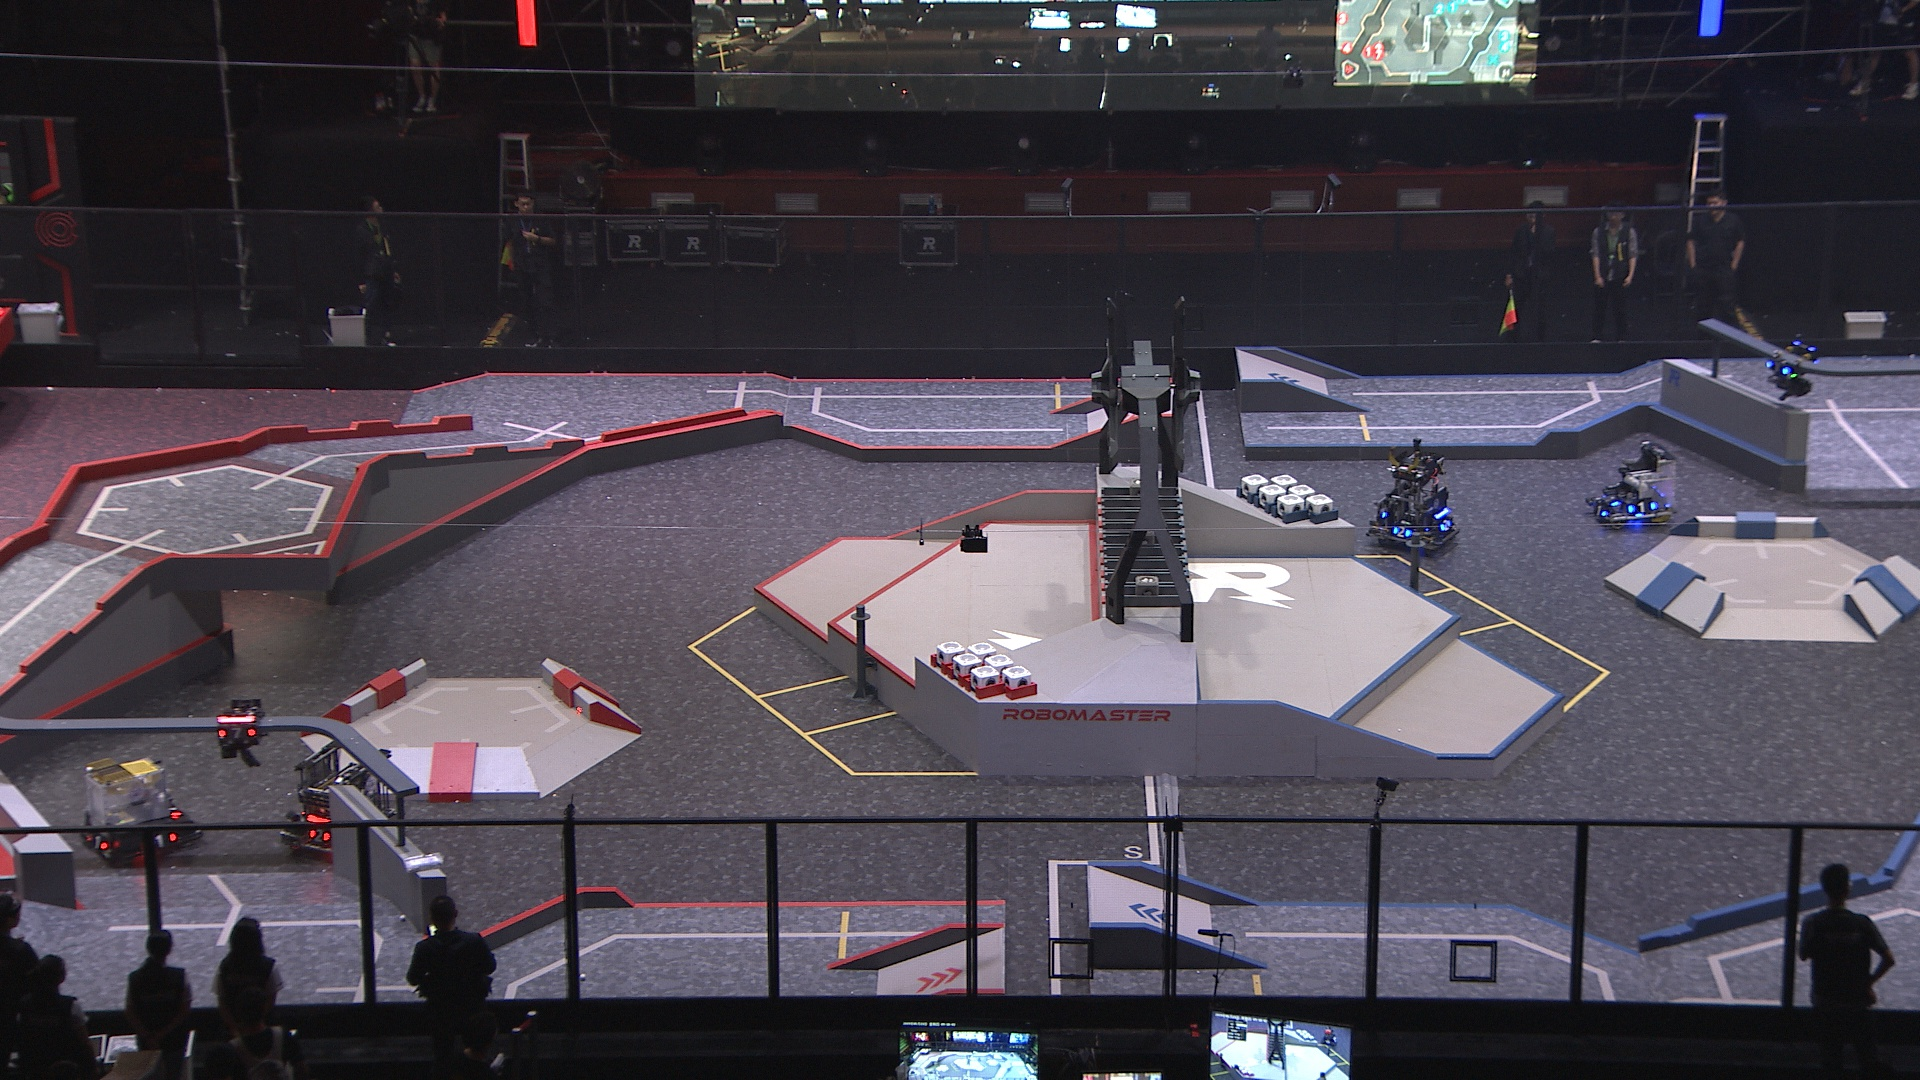armor: (215, 721, 257, 740), (146, 832, 175, 851), (306, 828, 335, 847), (84, 831, 107, 851), (1766, 357, 1788, 377), (1629, 500, 1656, 514), (1390, 524, 1414, 538), (1589, 501, 1609, 518), (167, 798, 179, 820), (1602, 491, 1619, 504), (1437, 518, 1453, 531)
car: (272, 738, 404, 865), (73, 752, 204, 870), (1366, 454, 1462, 553), (1586, 439, 1684, 531)
watcher: (216, 695, 269, 765), (1764, 335, 1818, 400)
